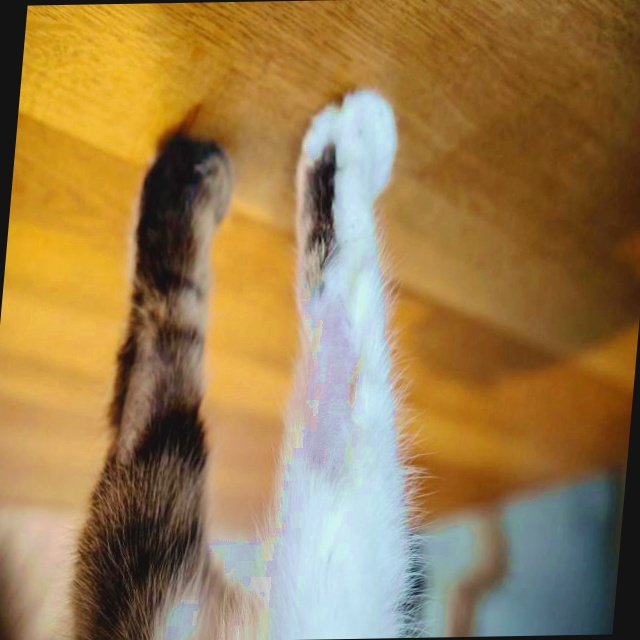hairloss: (283, 281, 371, 490)
